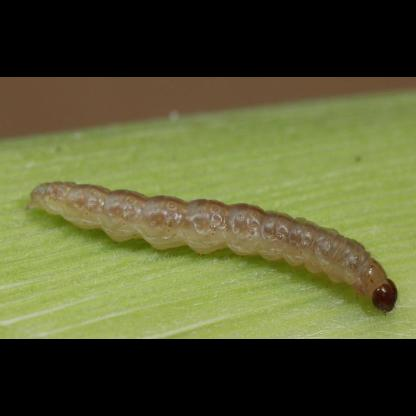Asian Corn Borer Larvae: (23, 176, 401, 320)
